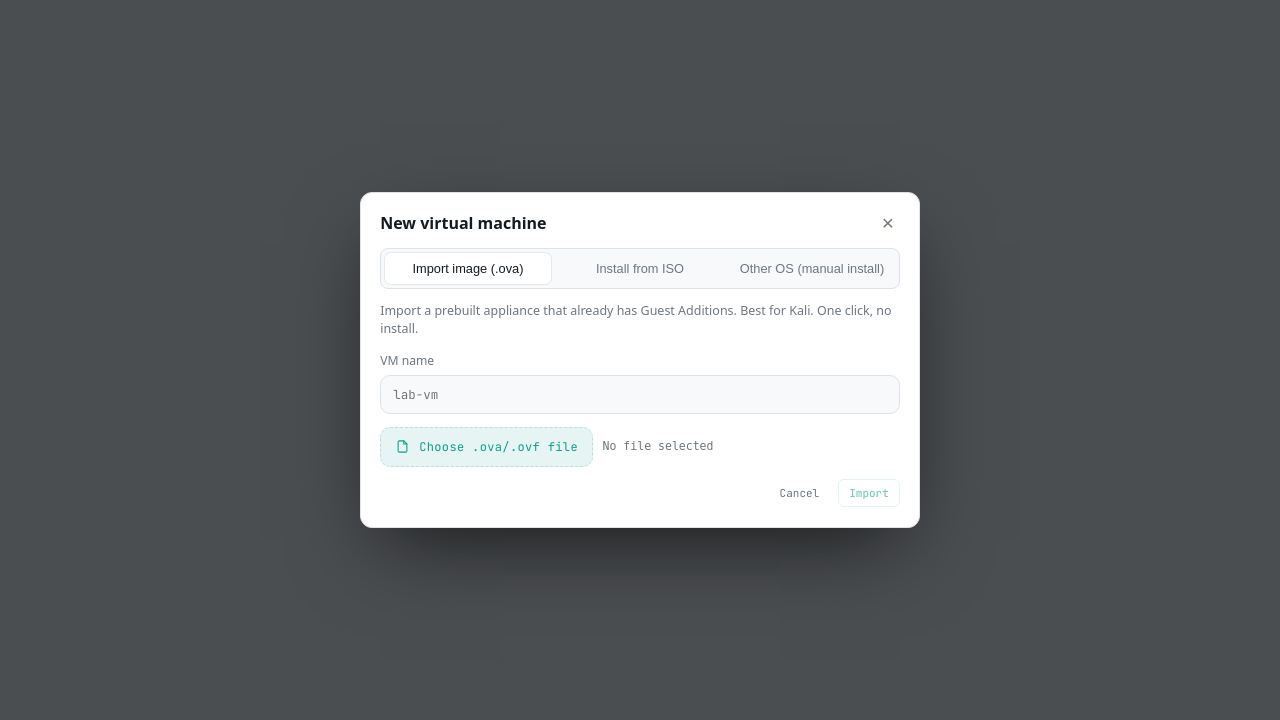
it: CreateVmWizard › keeps the submit button disabled until the required fields per mode are filled
# Import mode: a name alone is not enough — the appliance is required.
Type "vm1" into the field with placeholder "lab-vm" at (640, 394), box 380,375 -> 900,414
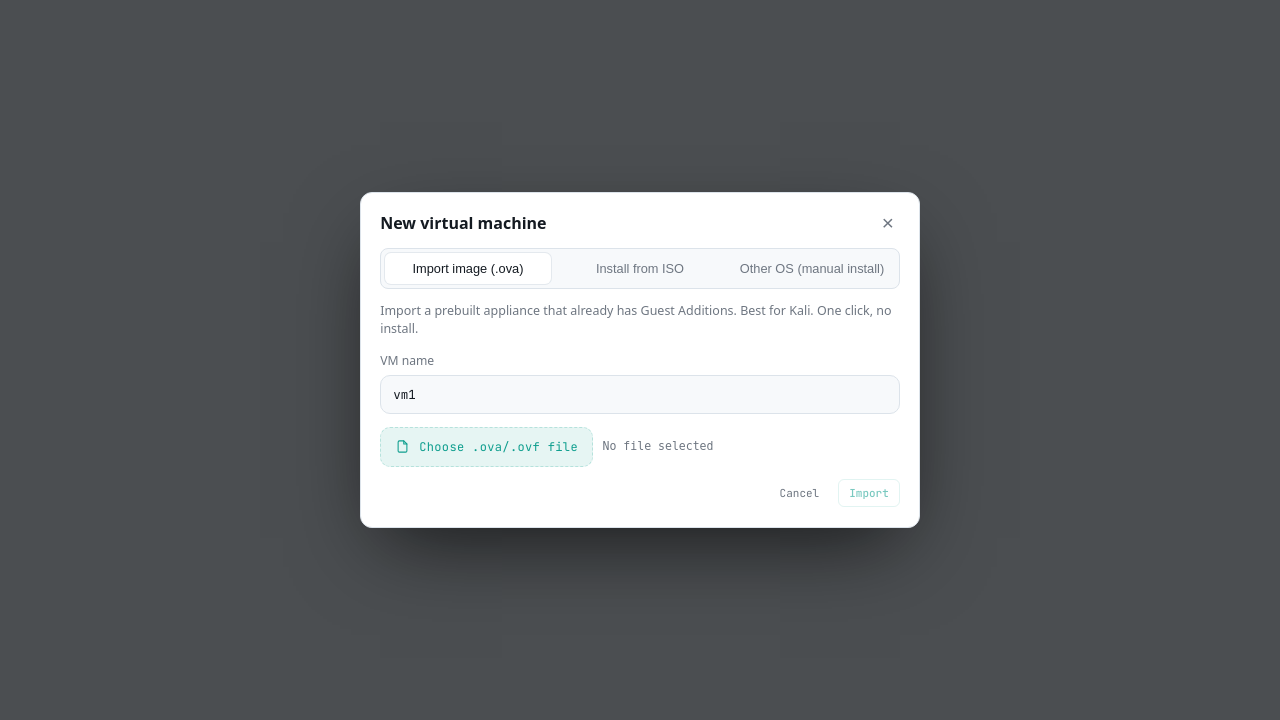
Expected: the button "Import" is disabled, 838,479 -> 900,507
# Install mode: name + ISO still needs the guest password.
Click the tab "Install from ISO" at (640, 268), box 557,253 -> 723,284
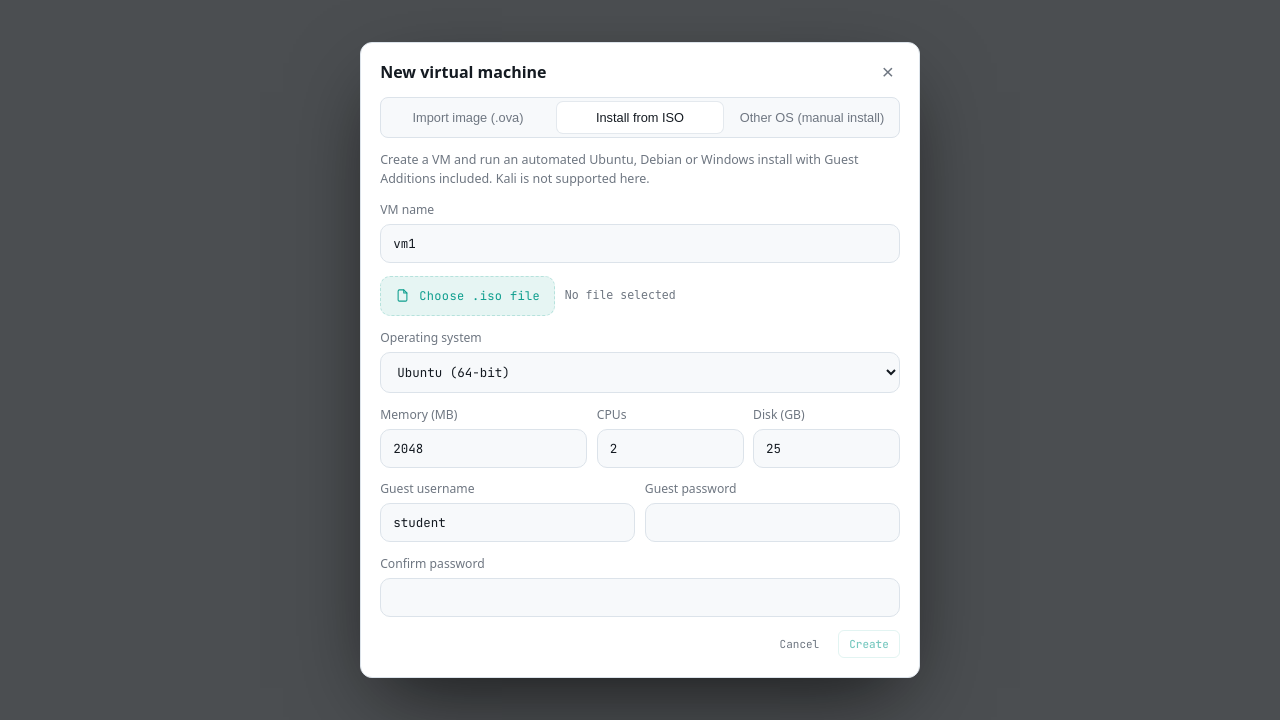
Click the button "Choose .iso file" at (468, 296), box 380,276 -> 555,316
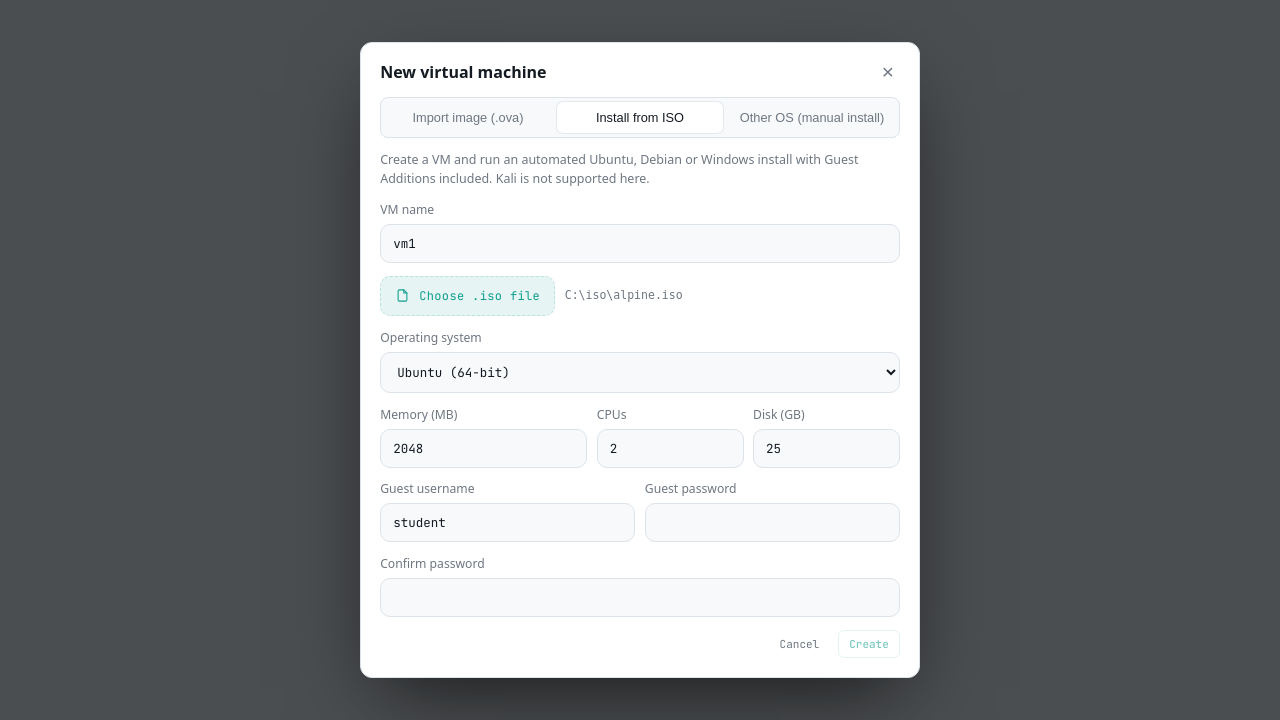
Expected: the button "Create" is disabled, 838,630 -> 900,658
Expected: the text "C:\\iso\\alpine.iso" is shown, 565,288 -> 683,302
# Manual mode: name + ISO is enough — no credentials are required.
Click the tab "Other OS (manual install)" at (812, 118), box 729,102 -> 895,133
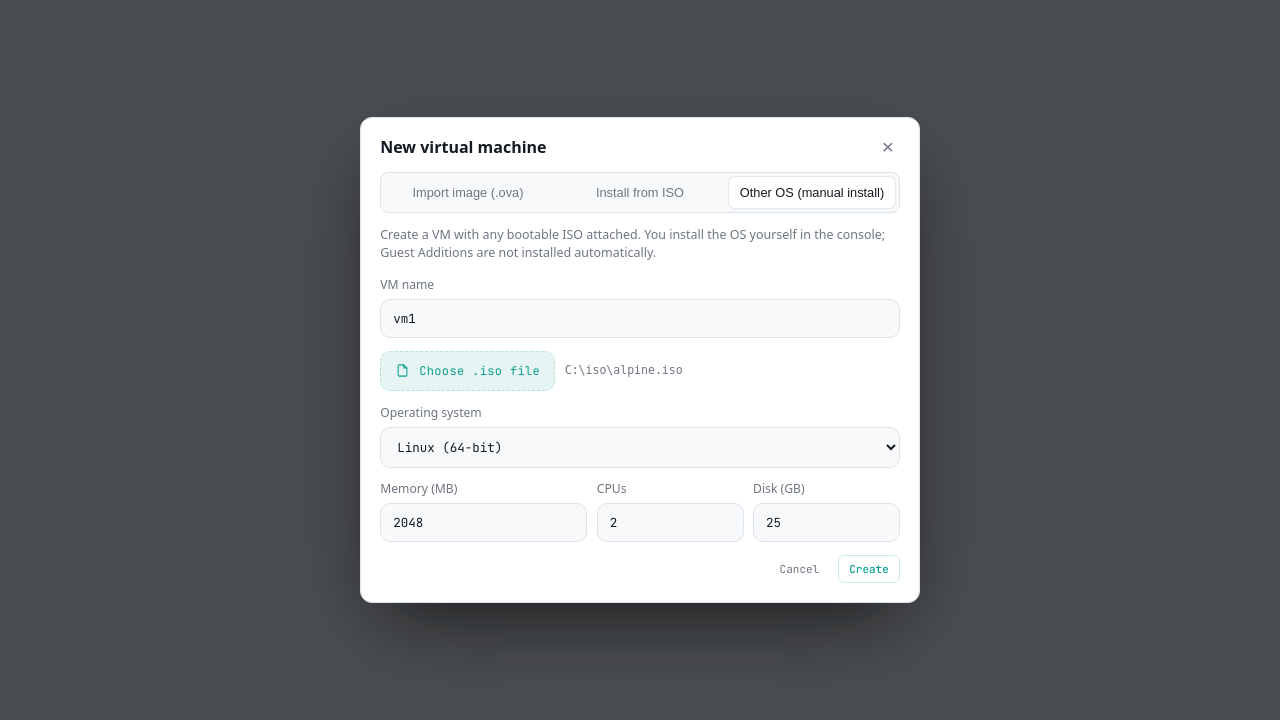
Expected: the button "Create" is enabled, 838,555 -> 900,583
